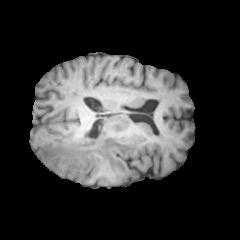glioma: (40, 115, 137, 174)
